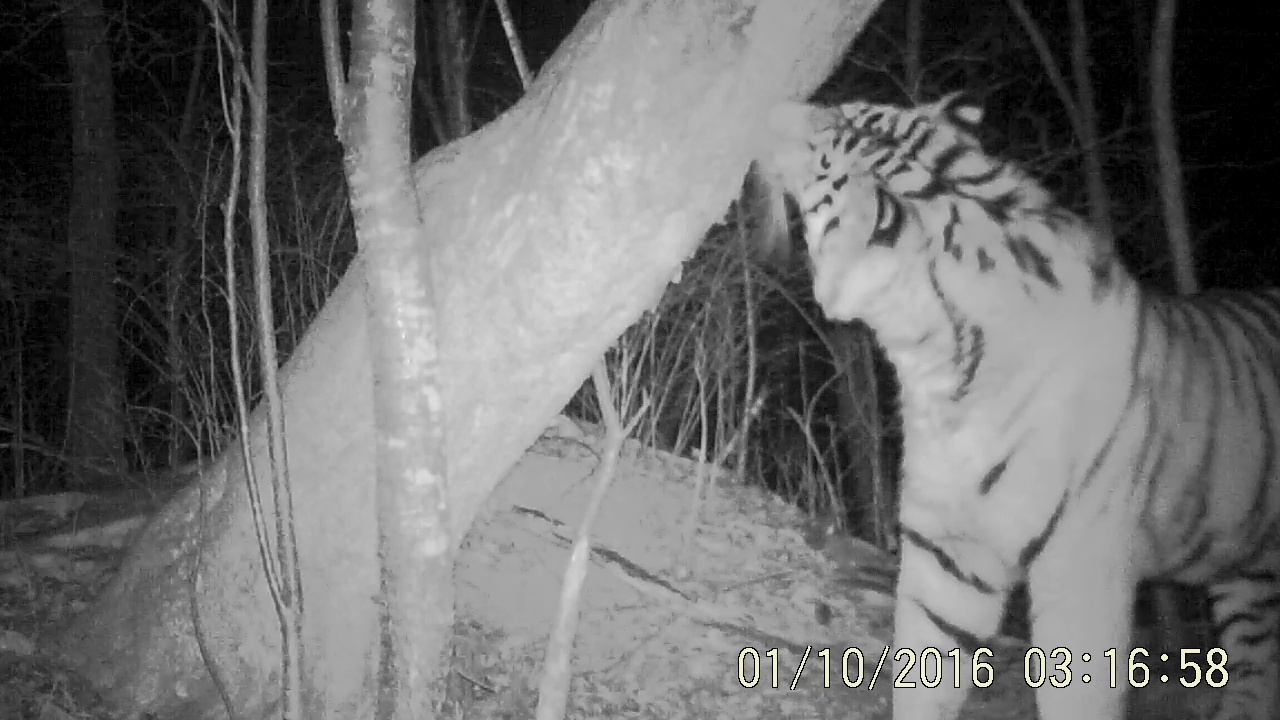Tiger: (737, 76, 1280, 638)
